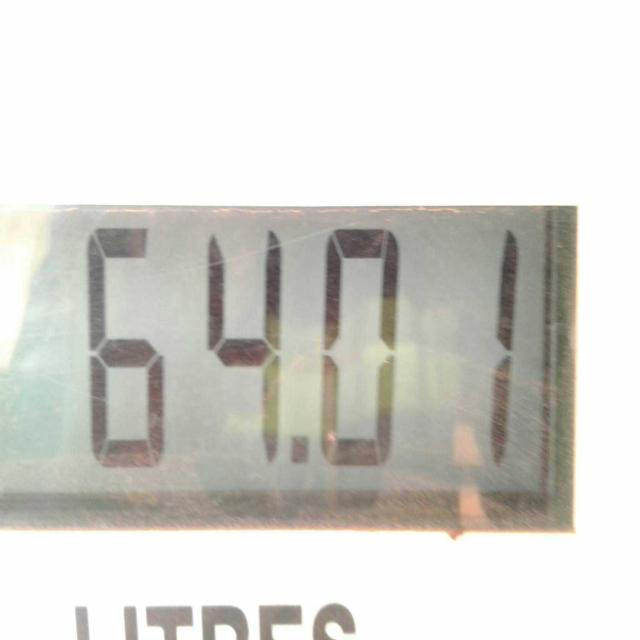.: (285, 430, 318, 470)
0: (319, 223, 399, 472)
1: (470, 223, 529, 472)
4: (198, 227, 287, 466)
6: (80, 225, 174, 470)
screen: (0, 203, 577, 532)
